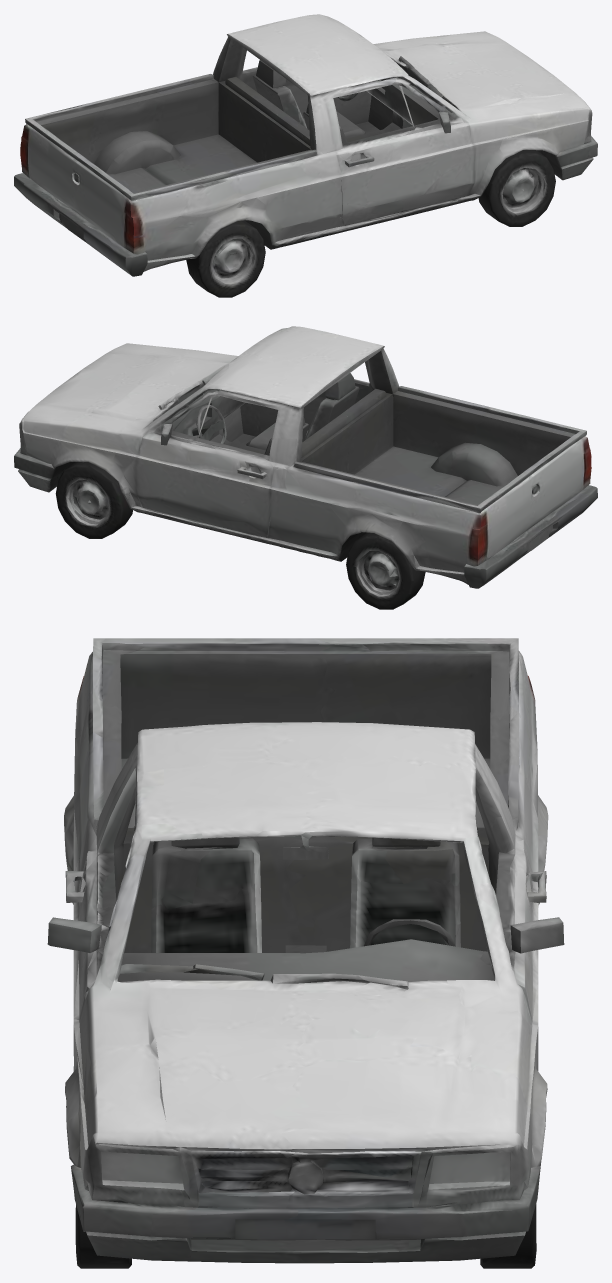
Rendered from saveiro.glb.
The picture shows the model from 3 angles, top to bottom: view 1: azimuth 30°, elevation 25°; view 2: azimuth 150°, elevation 25°; view 3: azimuth 270°, elevation 25°; orthographic projection. The views are drawn at different scales.
Visible parts, largest first — view 1: tripo_node_48c89540-d043-4165-a441-1dc1bbb36130; view 2: tripo_node_48c89540-d043-4165-a441-1dc1bbb36130; view 3: tripo_node_48c89540-d043-4165-a441-1dc1bbb36130.
Boxes of the visible parts, <box> form: tripo_node_48c89540-d043-4165-a441-1dc1bbb36130: <box>14,14,597,297</box>; tripo_node_48c89540-d043-4165-a441-1dc1bbb36130: <box>14,326,597,609</box>; tripo_node_48c89540-d043-4165-a441-1dc1bbb36130: <box>47,638,564,1268</box>.
Bounding box in the file's own units: 1 × 0.3457 × 0.4639.
Materials: 1 (1 with a texture image).
